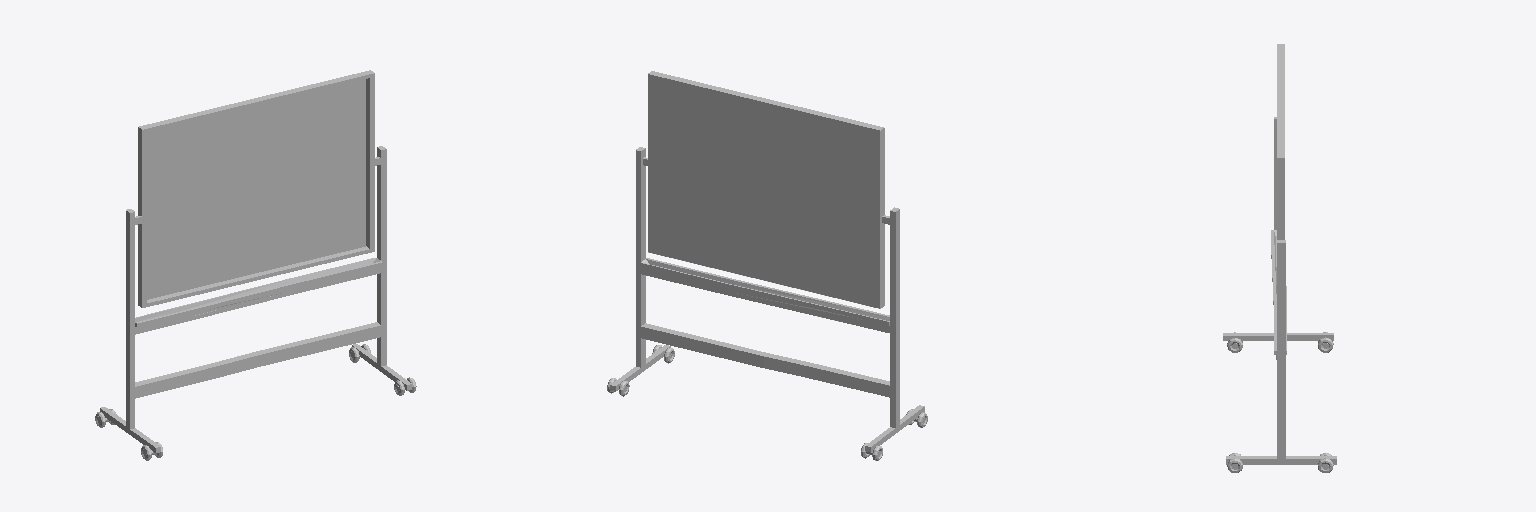
The model's file is White_Bords.obj.
The picture shows the model from 3 angles: view 1: azimuth 30°, elevation 25°; view 2: azimuth 150°, elevation 25°; view 3: azimuth 270°, elevation 25°; orthographic projection.
Visible parts, largest first — view 1: pCylinder6; view 2: pCylinder6; view 3: pCylinder6.
Boxes of the visible parts, x1,y1,x2,y2 form: pCylinder6: [95, 70, 416, 460]; pCylinder6: [607, 71, 927, 460]; pCylinder6: [1223, 44, 1336, 472].
Bounding box in the file's own units: 6.01 × 6.61 × 2.19.